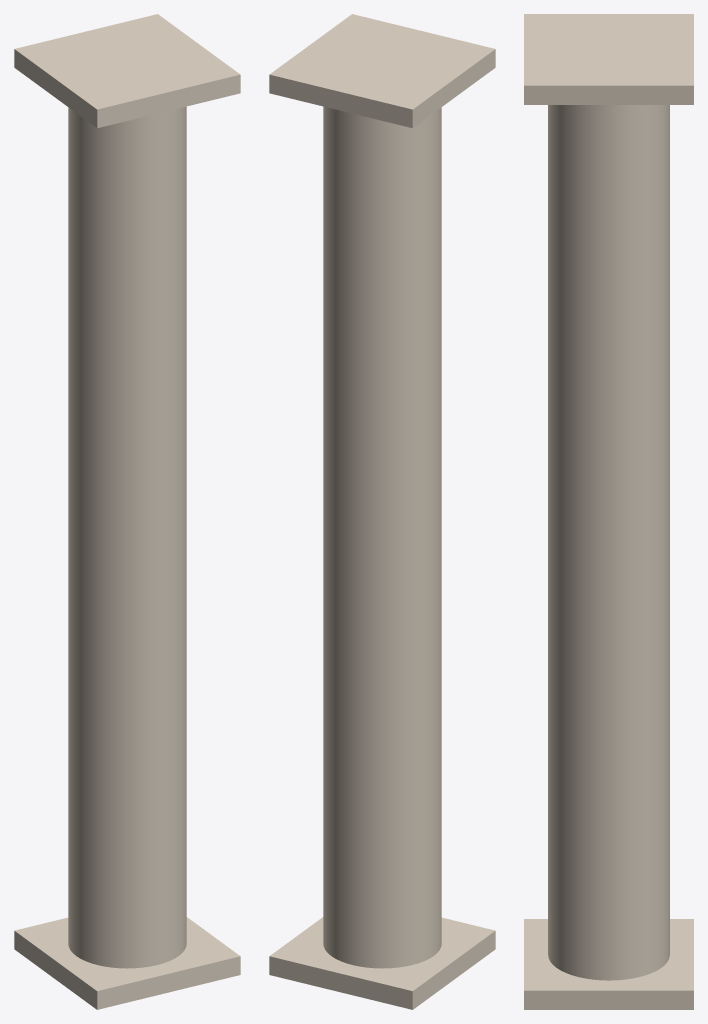
The model's file is COLUMN.fbx.
The picture shows the model from 3 angles, left to right: view 1: azimuth 30°, elevation 25°; view 2: azimuth 150°, elevation 25°; view 3: azimuth 270°, elevation 25°; orthographic projection. The views are drawn at different scales.
Parts seen in each view (by area): view 1: Column, Column_box_top, Column_box_bottom; view 2: Column, Column_box_top, Column_box_bottom; view 3: Column, Column_box_top, Column_box_bottom.
Part boxes in pixels (bbox=[...]): Column: bbox=[68, 106, 186, 968]; Column_box_top: bbox=[14, 14, 240, 128]; Column_box_bottom: bbox=[14, 917, 240, 1009]; Column: bbox=[323, 106, 441, 968]; Column_box_top: bbox=[269, 14, 495, 128]; Column_box_bottom: bbox=[269, 917, 495, 1009]; Column: bbox=[548, 105, 669, 980]; Column_box_top: bbox=[524, 14, 693, 104]; Column_box_bottom: bbox=[524, 919, 693, 1009].
Size of the model in its own units: 40 by 240 by 40.
